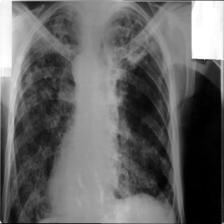tuberculosis: (9, 4, 182, 222)
